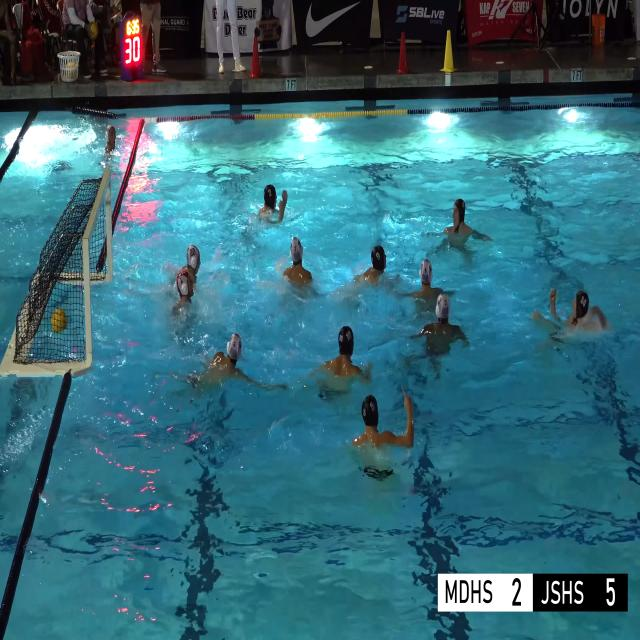ball: (51, 307, 67, 333), (90, 21, 98, 40)
